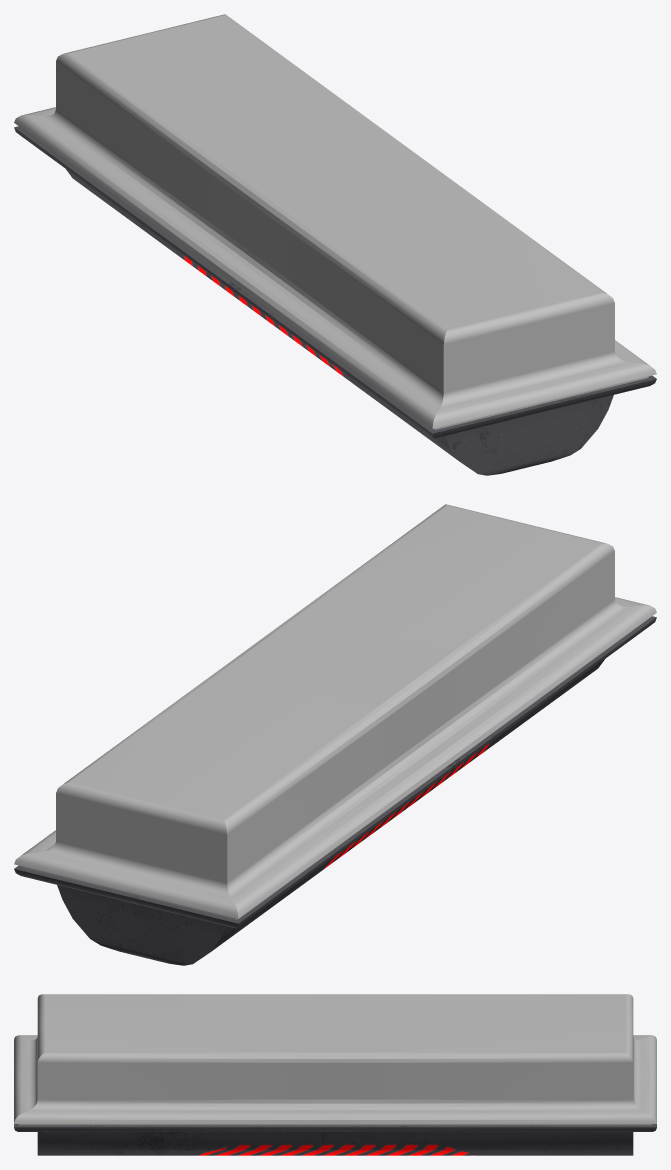
Rendered from WarningLightV1.fbx.
3 views of the same model, one above another, from view 1: azimuth 30°, elevation 25°; view 2: azimuth 150°, elevation 25°; view 3: azimuth 270°, elevation 25° (orthographic). The views are drawn at different scales.
Visible parts, largest first — view 1: Light_Fixture, Light_Cover; view 2: Light_Fixture, Light_Cover; view 3: Light_Fixture, Light_Cover.
Boxes of the visible parts, bbox=[...] form: Light_Fixture: bbox=[14, 14, 656, 429]; Light_Cover: bbox=[14, 126, 656, 475]; Light_Fixture: bbox=[14, 504, 656, 919]; Light_Cover: bbox=[14, 616, 656, 965]; Light_Fixture: bbox=[14, 994, 656, 1125]; Light_Cover: bbox=[14, 1124, 656, 1155].
Bounding box in the file's own units: 30.12 × 20 × 97.29.
